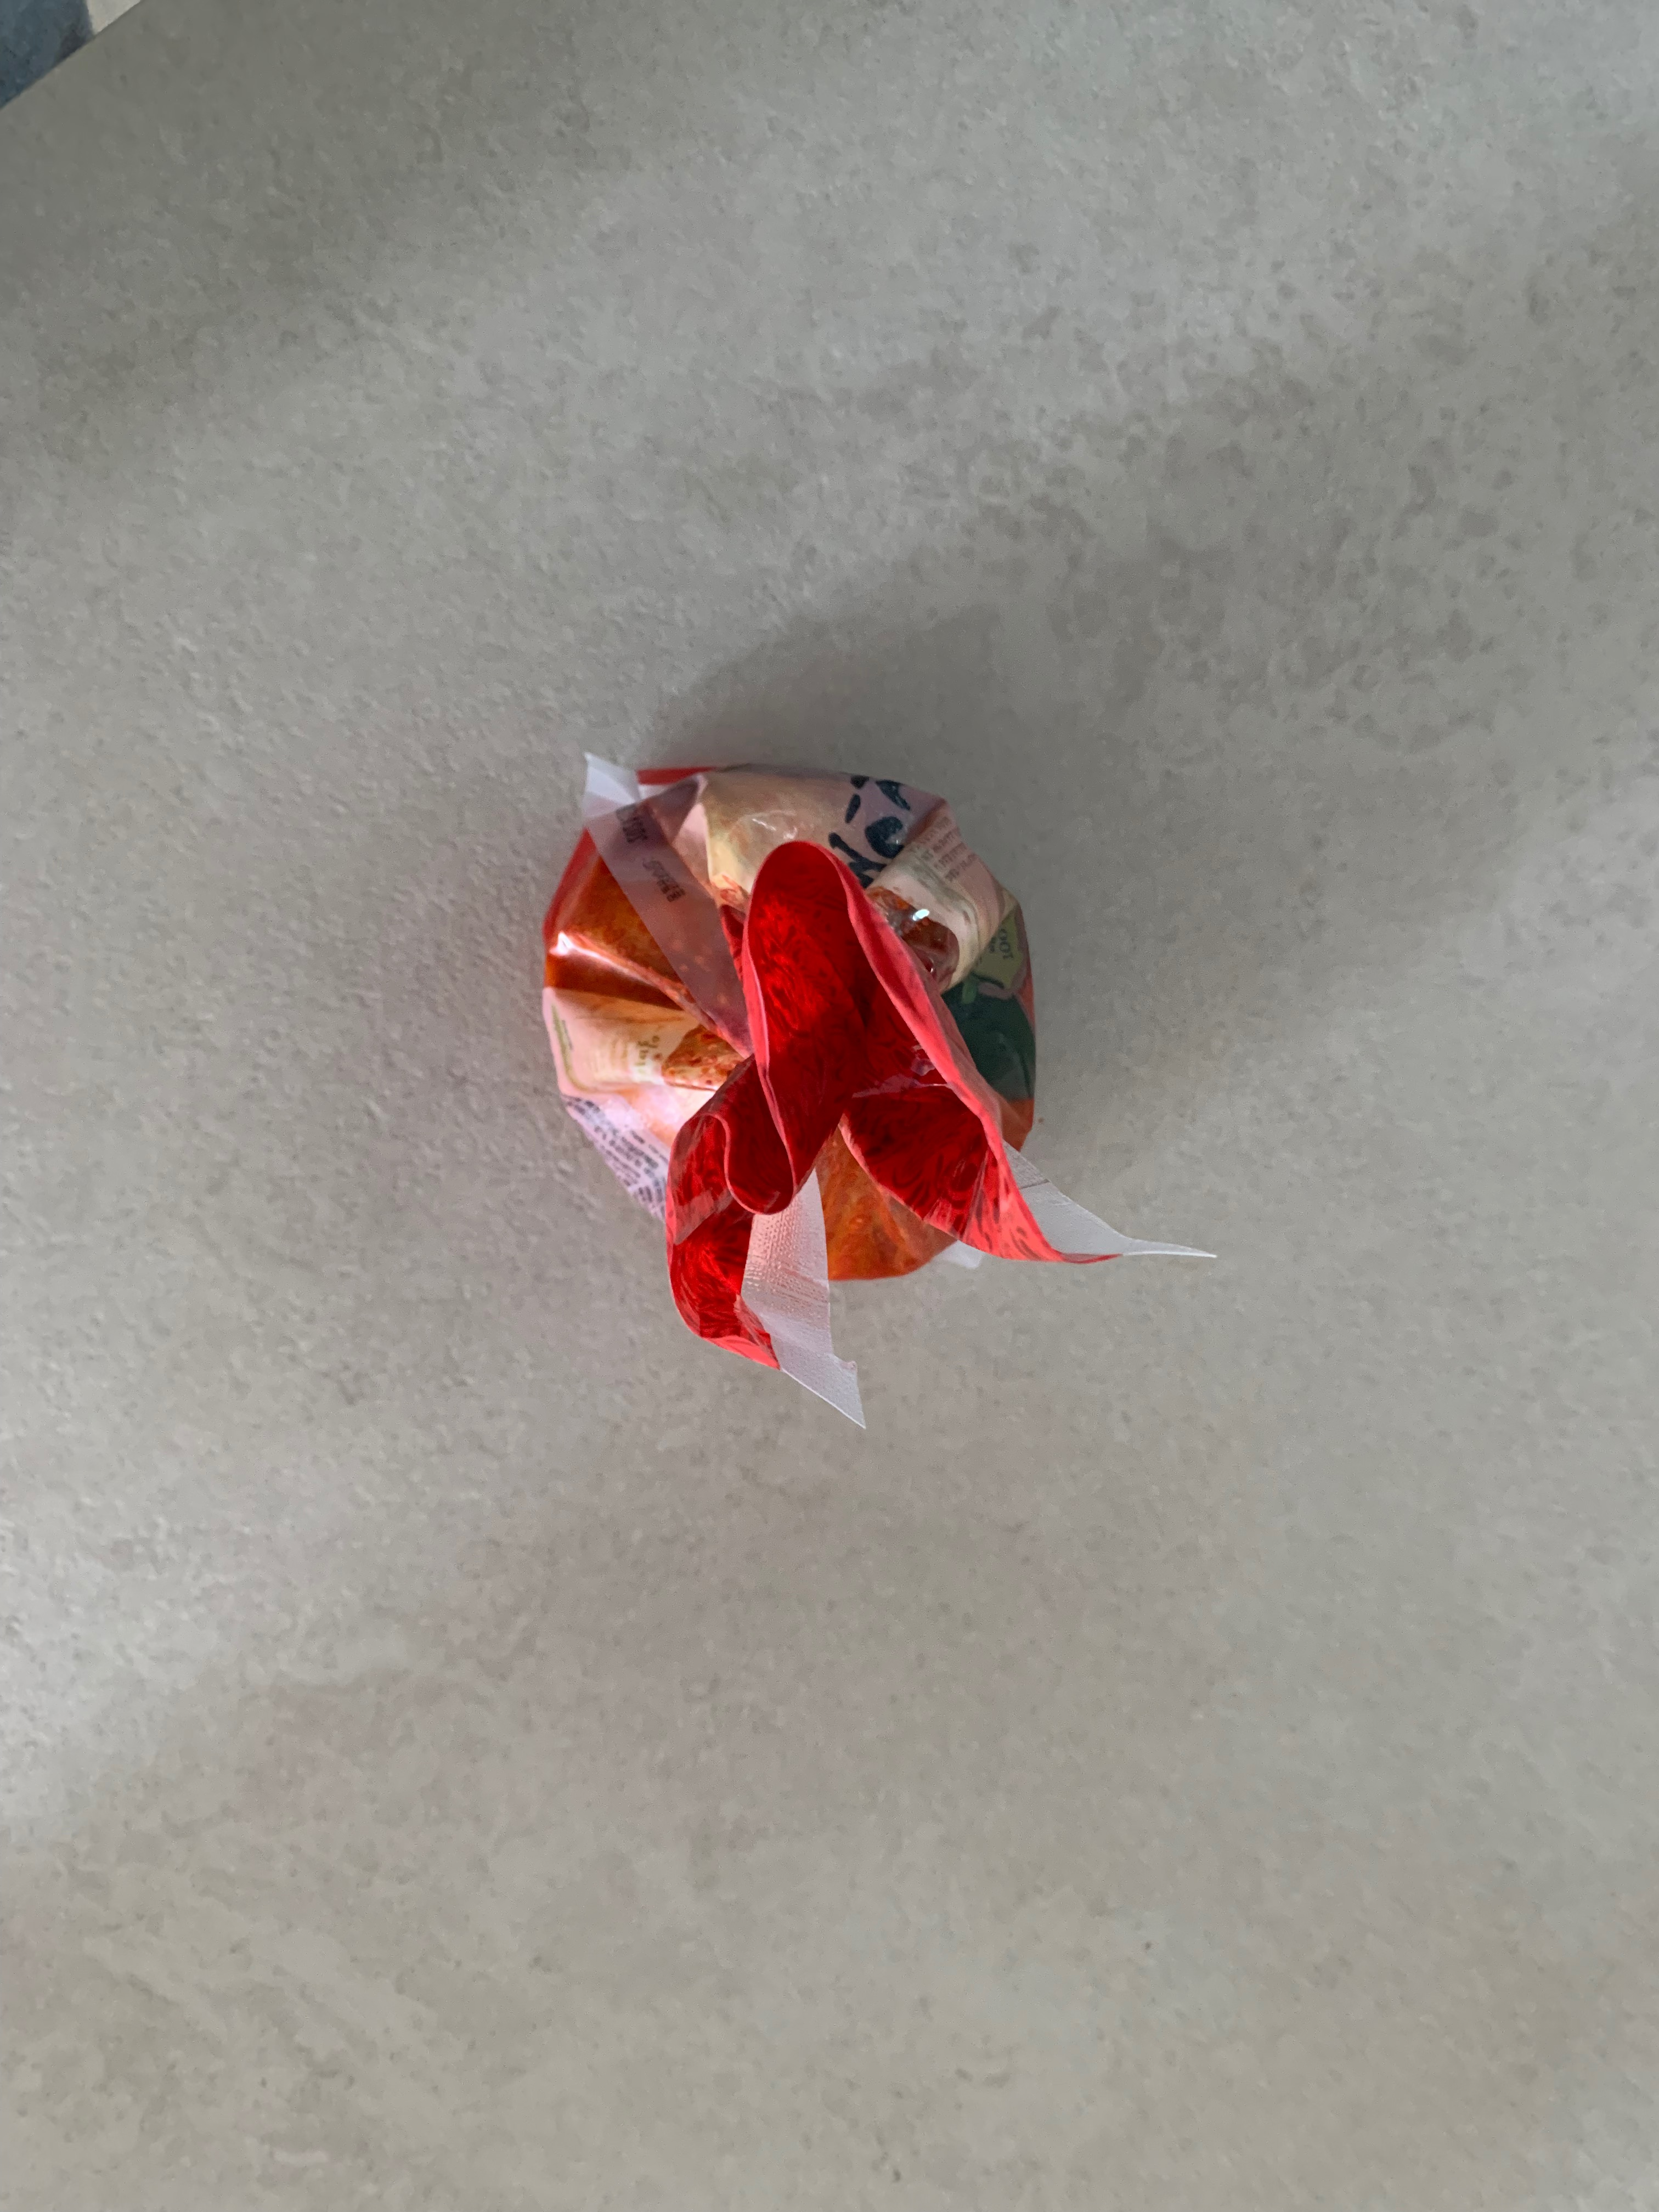kimchi: (538, 766, 1121, 1378)
